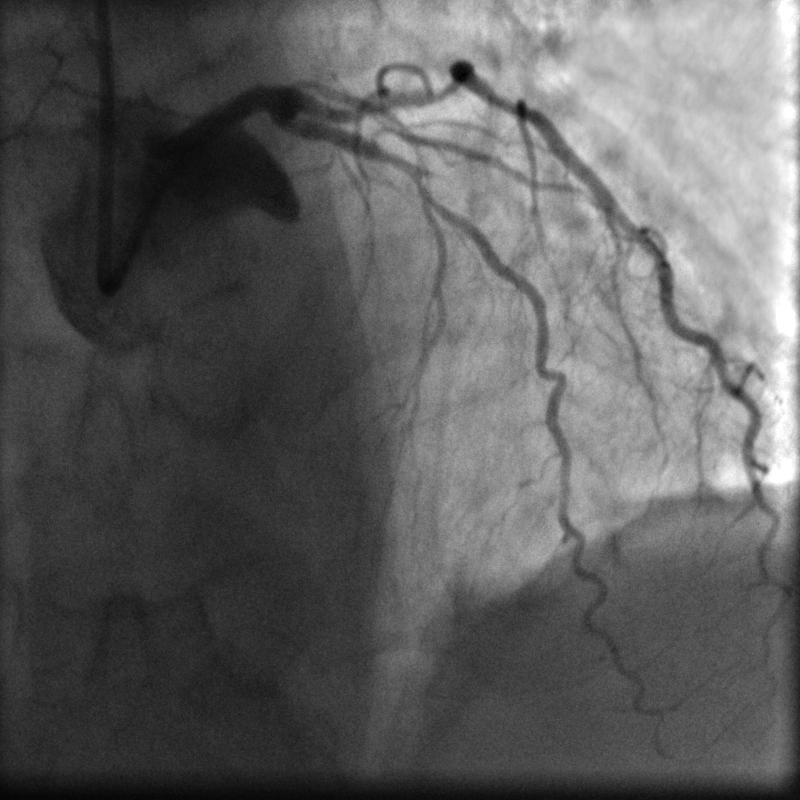Stenosis: (367, 133, 427, 195)
